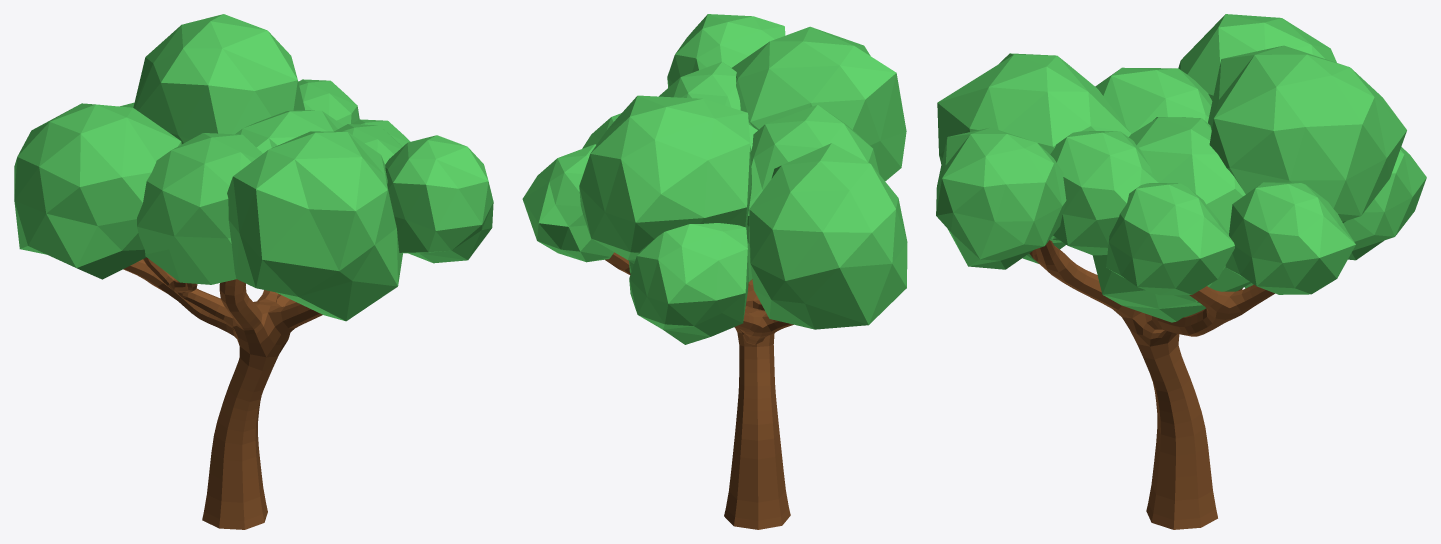
Rendered from LowpolyTrees01.fbx.
3 views of the same model, side by side, from view 1: azimuth 30°, elevation 25°; view 2: azimuth 150°, elevation 25°; view 3: azimuth 270°, elevation 25° (orthographic). The views are drawn at different scales.
Parts seen in each view (by area): view 1: Icosphere, Plane; view 2: Icosphere, Plane; view 3: Icosphere, Plane.
Boxes of the visible parts, x1=… form: Icosphere: x1=14, y1=14, x2=493, y2=321; Plane: x1=123, y1=257, x2=322, y2=529; Icosphere: x1=522, y1=14, x2=907, y2=344; Plane: x1=605, y1=252, x2=793, y2=529; Icosphere: x1=936, y1=14, x2=1426, y2=322; Plane: x1=1029, y1=240, x2=1274, y2=529.
Size of the model in its own units: 648 by 787 by 728.
